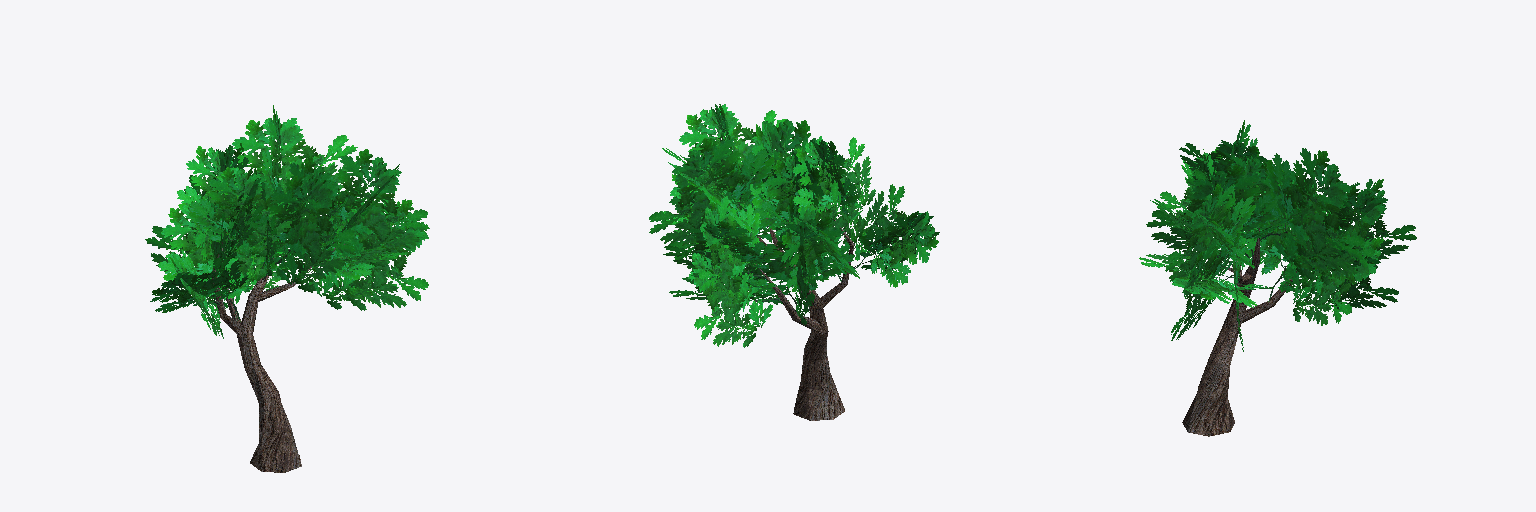
3 renders of one model, left to right at view 1: azimuth 30°, elevation 25°; view 2: azimuth 150°, elevation 25°; view 3: azimuth 270°, elevation 25°, orthographic.
Parts seen in each view (by area): view 1: tree5.tga; view 2: tree5.tga; view 3: tree5.tga.
Boxes of the visible parts, <box> form: tree5.tga: <box>145,105,429,472</box>; tree5.tga: <box>649,104,939,420</box>; tree5.tga: <box>1139,120,1416,436</box>.
Bounding box in the file's own units: 19.42 × 18.79 × 17.63.
Materials: 1 (1 with a texture image).